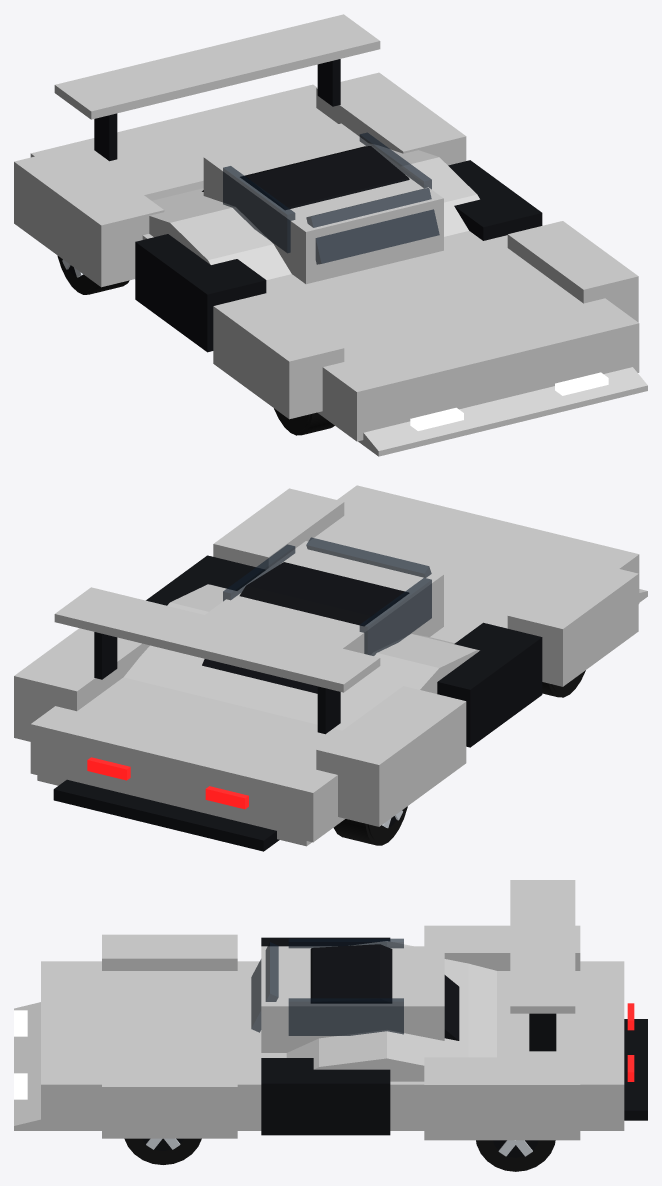
Rendered from mcroar-pterodactyl.glb.
3 views of the same model, one above another, from view 1: azimuth 30°, elevation 25°; view 2: azimuth 150°, elevation 25°; view 3: azimuth 270°, elevation 25° (orthographic). The views are drawn at different scales.
Parts seen in each view (by area): view 1: chassis, glass, wheel-front-left, wheel-back-left; view 2: chassis, glass, wheel-back-left; view 3: chassis, wheel-back-right, wheel-front-right, glass.
Part boxes in pixels (x1,y1,x2,y2): chassis: (14, 14, 647, 456); glass: (306, 188, 439, 264); wheel-front-left: (274, 408, 334, 435); wheel-back-left: (57, 255, 129, 294); chassis: (14, 485, 647, 851); glass: (306, 537, 431, 577); wheel-back-left: (333, 806, 407, 845); chassis: (14, 880, 647, 1140); wheel-back-right: (476, 1140, 555, 1171); wheel-front-right: (124, 1138, 201, 1164); glass: (251, 942, 278, 1032).
Bounding box in the file's own units: 2.78 × 1.31 × 4.67.
